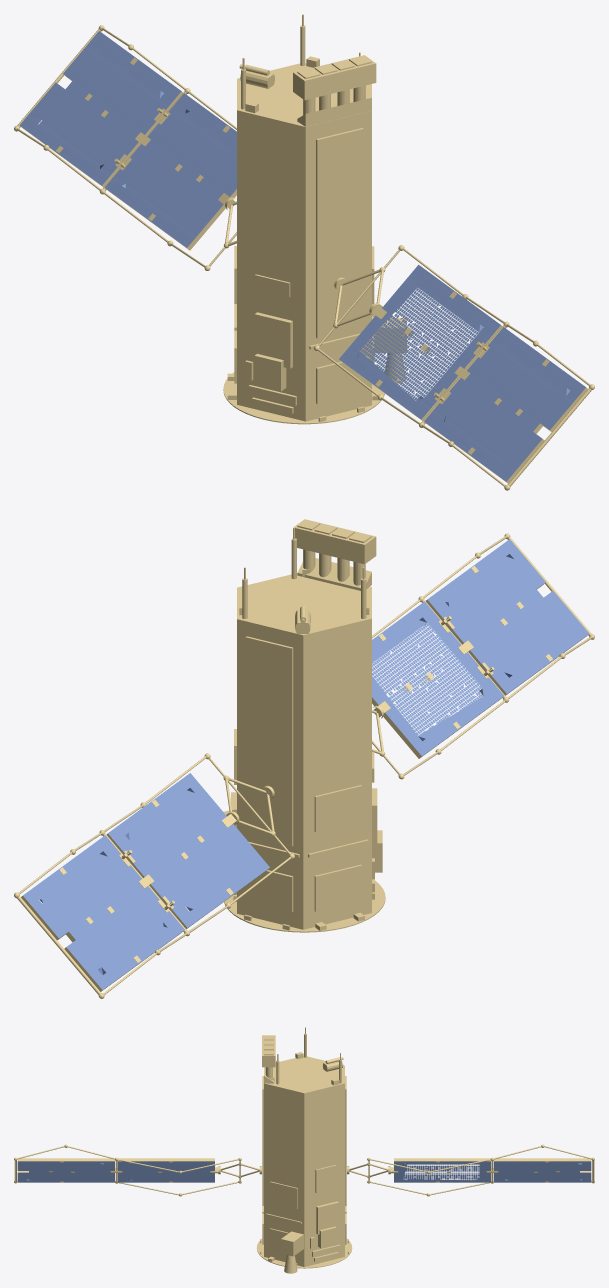
The model's file is oco2.glb.
3 renders of one model, top to bottom at view 1: azimuth 30°, elevation 25°; view 2: azimuth 150°, elevation 25°; view 3: azimuth 270°, elevation 25°, orthographic. The views are drawn at different scales.
Parts seen in each view (by area): view 1: body, solar; view 2: body, solar; view 3: body, solar.
Boxes of the visible parts, x1,y1,x2,y2 form: body: [14, 14, 594, 490]; solar: [19, 31, 585, 481]; body: [14, 519, 594, 998]; solar: [23, 539, 589, 989]; body: [14, 1027, 594, 1273]; solar: [17, 1161, 591, 1182].
Size of the model in its own units: 7.63 by 15.41 by 39.87.
